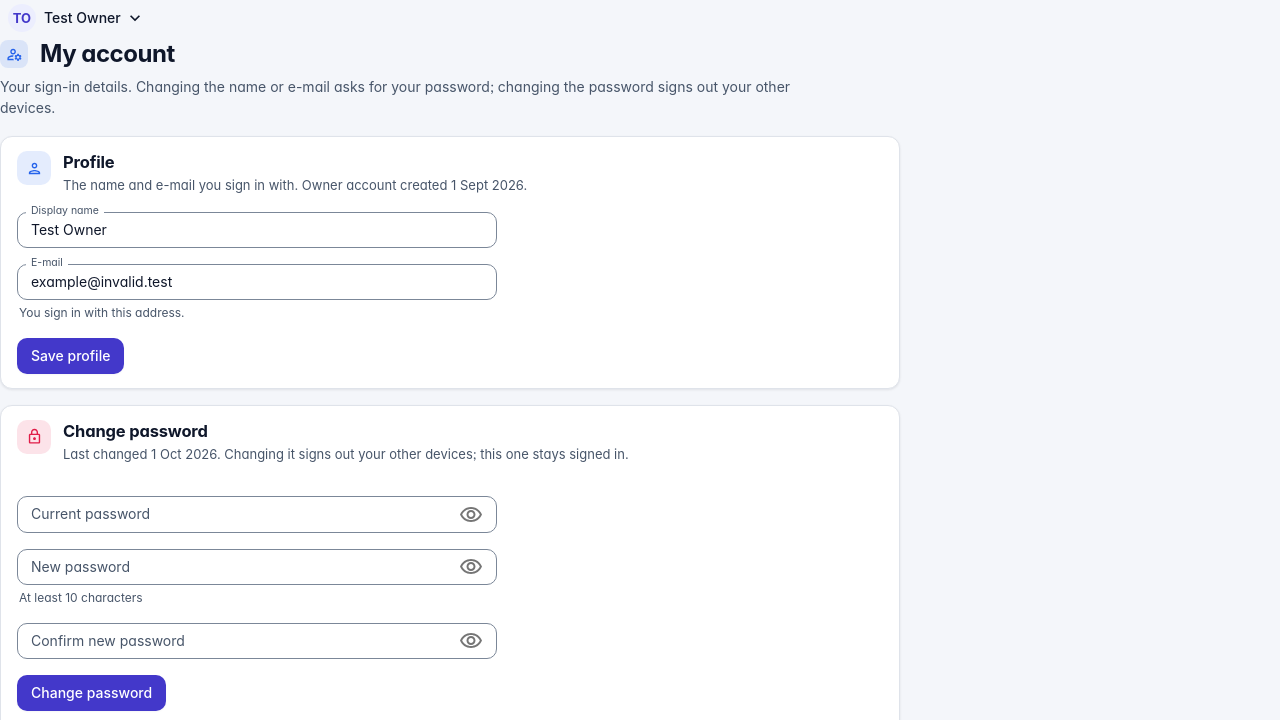
Test: My account: profile › saves nothing and shows no error when the password dialog is cancelled
Type "x" into the field labelled "Display name" at point(257, 230), box [17,212,497,248]
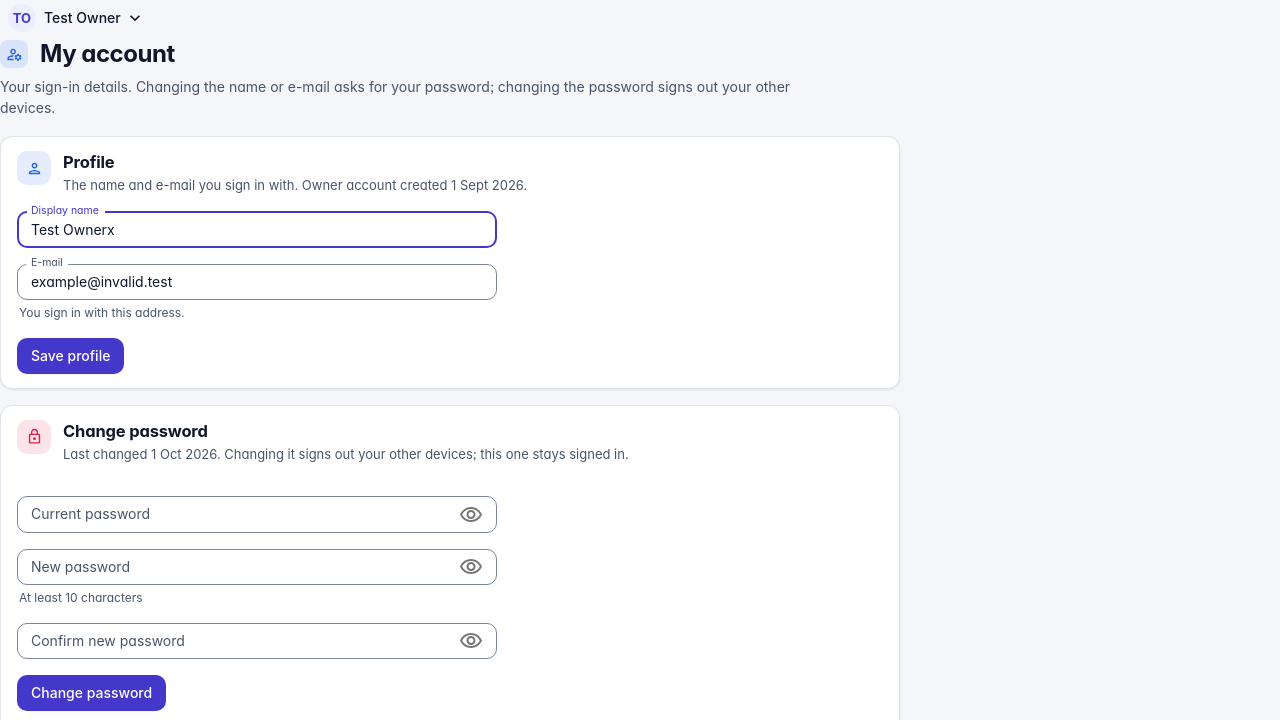
Click the button "Save profile" at point(71, 356), box [17,338,124,374]
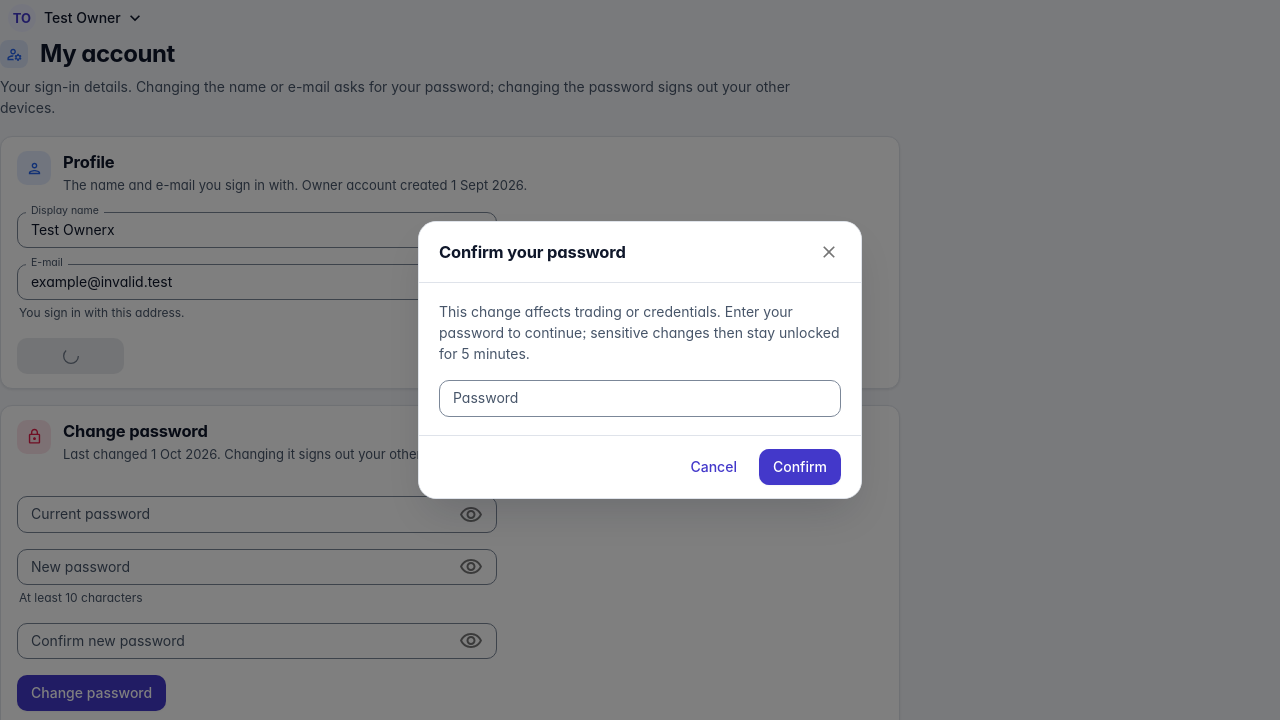
Click the button "Cancel" at point(714, 467), box [676,449,751,485]
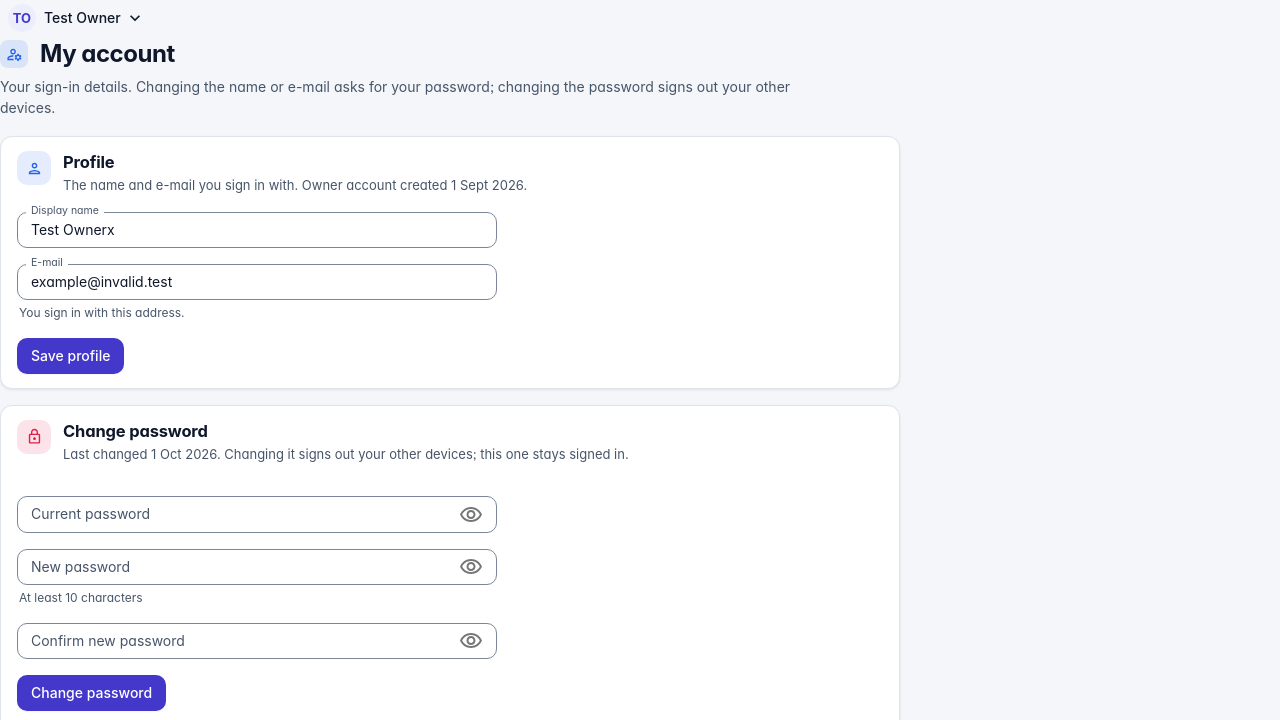
Expected: the button "Save profile" is shown, [17,338,124,374]
Now the dialog is gone
